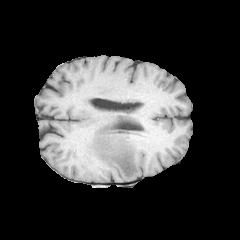glioma: (85, 122, 139, 178)
